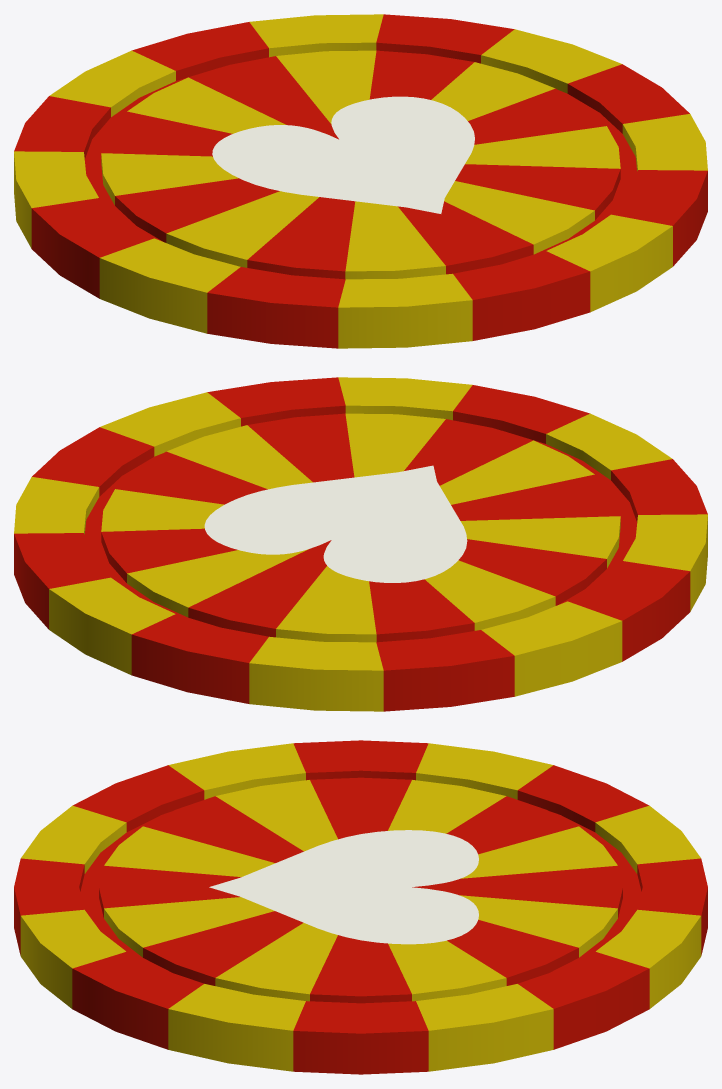
File: chip4.fbx
The picture shows the model from 3 angles, top to bottom: view 1: azimuth 30°, elevation 25°; view 2: azimuth 150°, elevation 25°; view 3: azimuth 270°, elevation 25°; orthographic projection.
Visible parts, largest first — view 1: level4chip; view 2: level4chip; view 3: level4chip.
Boxes of the visible parts, <box> form: level4chip: <box>14,14,707,348</box>; level4chip: <box>14,377,707,711</box>; level4chip: <box>14,740,707,1074</box>.
Size of the model in its own units: 21.2 by 1.44 by 21.2.
